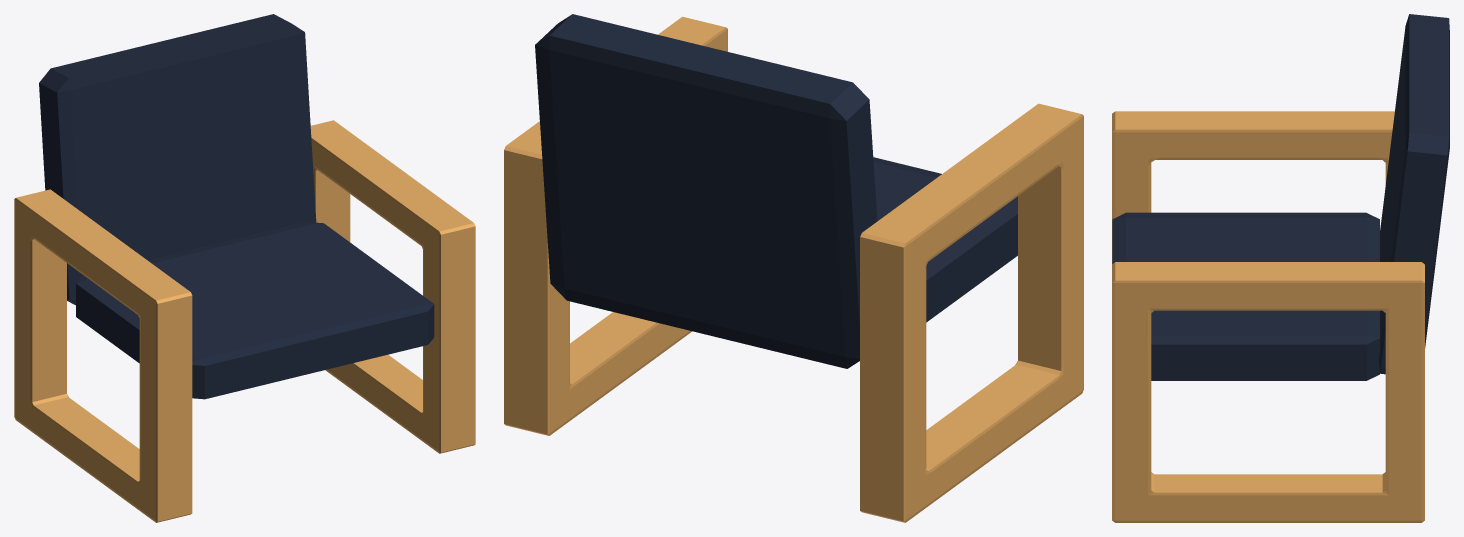
File: Chair.fbx
3 renders of one model, left to right at view 1: azimuth 30°, elevation 25°; view 2: azimuth 150°, elevation 25°; view 3: azimuth 270°, elevation 25°, orthographic. The views are drawn at different scales.
Visible parts, largest first — view 1: Back, ArmR, Cousion, ArmL; view 2: Back, ArmR, ArmL, Cousion; view 3: ArmL, Cousion, ArmR, Back.
Boxes of the visible parts, bbox=[...] form: Back: bbox=[39, 14, 316, 305]; ArmR: bbox=[14, 189, 192, 522]; Cousion: bbox=[76, 221, 434, 399]; ArmL: bbox=[310, 120, 475, 453]; Back: bbox=[535, 14, 877, 368]; ArmR: bbox=[860, 103, 1083, 522]; ArmL: bbox=[504, 16, 727, 435]; Cousion: bbox=[873, 157, 1017, 322]; ArmL: bbox=[1112, 262, 1424, 522]; Cousion: bbox=[1112, 212, 1379, 380]; ArmR: bbox=[1112, 111, 1394, 263]; Back: bbox=[1379, 14, 1449, 374].
Size of the model in its own units: 180 by 181 by 151.
